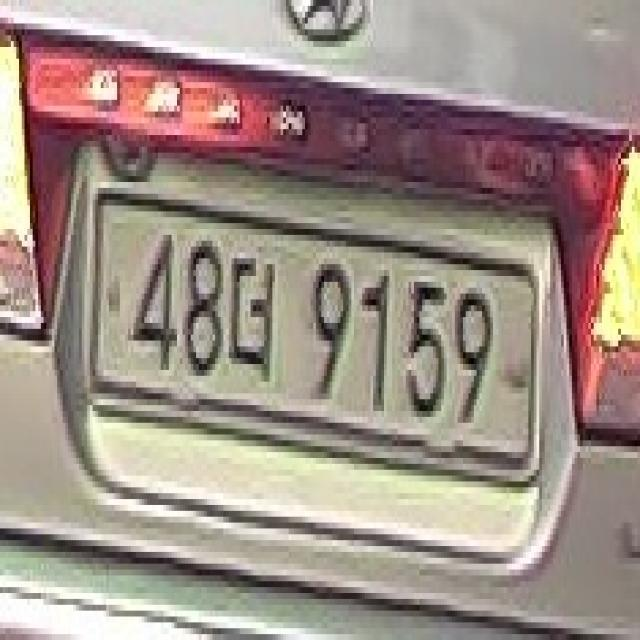1: (359, 271, 394, 429)
4: (132, 224, 178, 390)
5: (408, 274, 449, 432)
8: (182, 233, 224, 399)
9: (308, 252, 353, 418), (456, 284, 494, 440)
deo: (228, 247, 278, 398)
license_plate: (74, 164, 560, 525)
